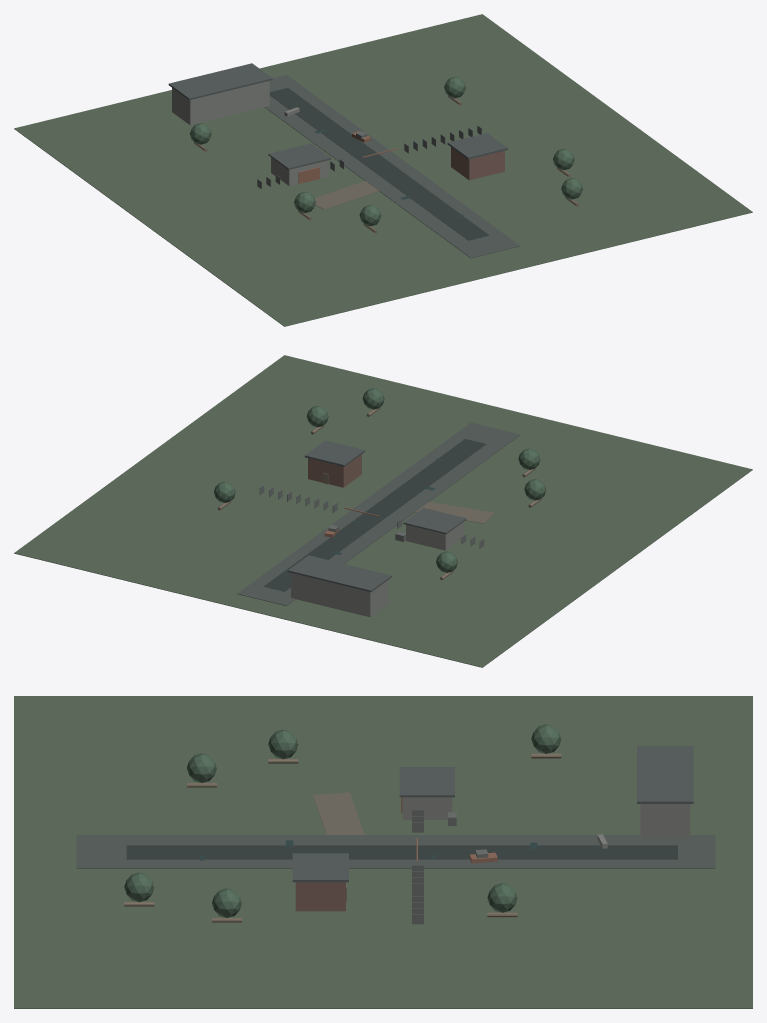
Rendered from level.glb.
The picture shows the model from 3 angles, top to bottom: view 1: azimuth 30°, elevation 25°; view 2: azimuth 150°, elevation 25°; view 3: azimuth 270°, elevation 25°; orthographic projection. The views are drawn at different scales.
Visible parts, largest first — view 1: terrain-ground, road-main, decor-road-wet, warehouse, warehouse-roof, house-shell, garage-roof, house-roof, access-lane, garage-shell; view 2: terrain-ground, road-main, decor-road-wet, warehouse, warehouse-roof, house-shell, garage-roof, garage-shell, house-roof, access-lane; view 3: terrain-ground, road-main, decor-road-wet, warehouse-roof, warehouse, garage-roof, house-roof, access-lane, house-shell, garage-shell, decor-tree-crown--31--26, decor-tree-crown-29--19 (+4 smaller).
Boxes of the visible parts, box(x1,y1,x2,y2) form: terrain-ground: box(14, 14, 752, 326); road-main: box(264, 75, 520, 258); decor-road-wet: box(269, 88, 489, 240); warehouse: box(172, 81, 269, 125); warehouse-roof: box(168, 63, 272, 100); house-shell: box(451, 147, 504, 180); garage-roof: box(268, 143, 331, 169); house-roof: box(447, 133, 507, 159); access-lane: box(315, 181, 378, 209); garage-shell: box(271, 157, 328, 186); terrain-ground: box(14, 355, 752, 667); road-main: box(237, 422, 520, 605); decor-road-wet: box(263, 439, 486, 591); warehouse: box(291, 573, 388, 617); warehouse-roof: box(288, 555, 391, 592); house-shell: box(308, 454, 361, 487); garage-roof: box(403, 508, 466, 534); garage-shell: box(406, 522, 463, 550); house-roof: box(304, 440, 364, 466); access-lane: box(415, 502, 494, 523); terrain-ground: box(14, 696, 752, 1008); road-main: box(76, 835, 715, 868); decor-road-wet: box(126, 845, 677, 859); warehouse-roof: box(637, 746, 693, 803); warehouse: box(640, 804, 690, 838); garage-roof: box(399, 767, 454, 797); house-roof: box(292, 853, 348, 882); access-lane: box(312, 792, 364, 834); house-shell: box(295, 882, 345, 911); garage-shell: box(402, 797, 452, 819); decor-tree-crown--31--26: box(531, 724, 561, 753); decor-tree-crown-29--19: box(487, 883, 517, 912).
Size of the model in its own units: 118 by 7.98 by 118.
